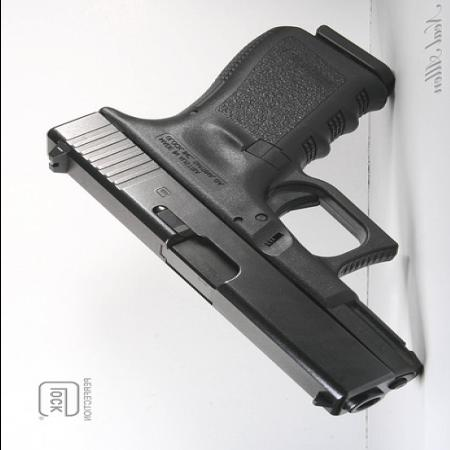Pistol: (43, 24, 421, 414)
